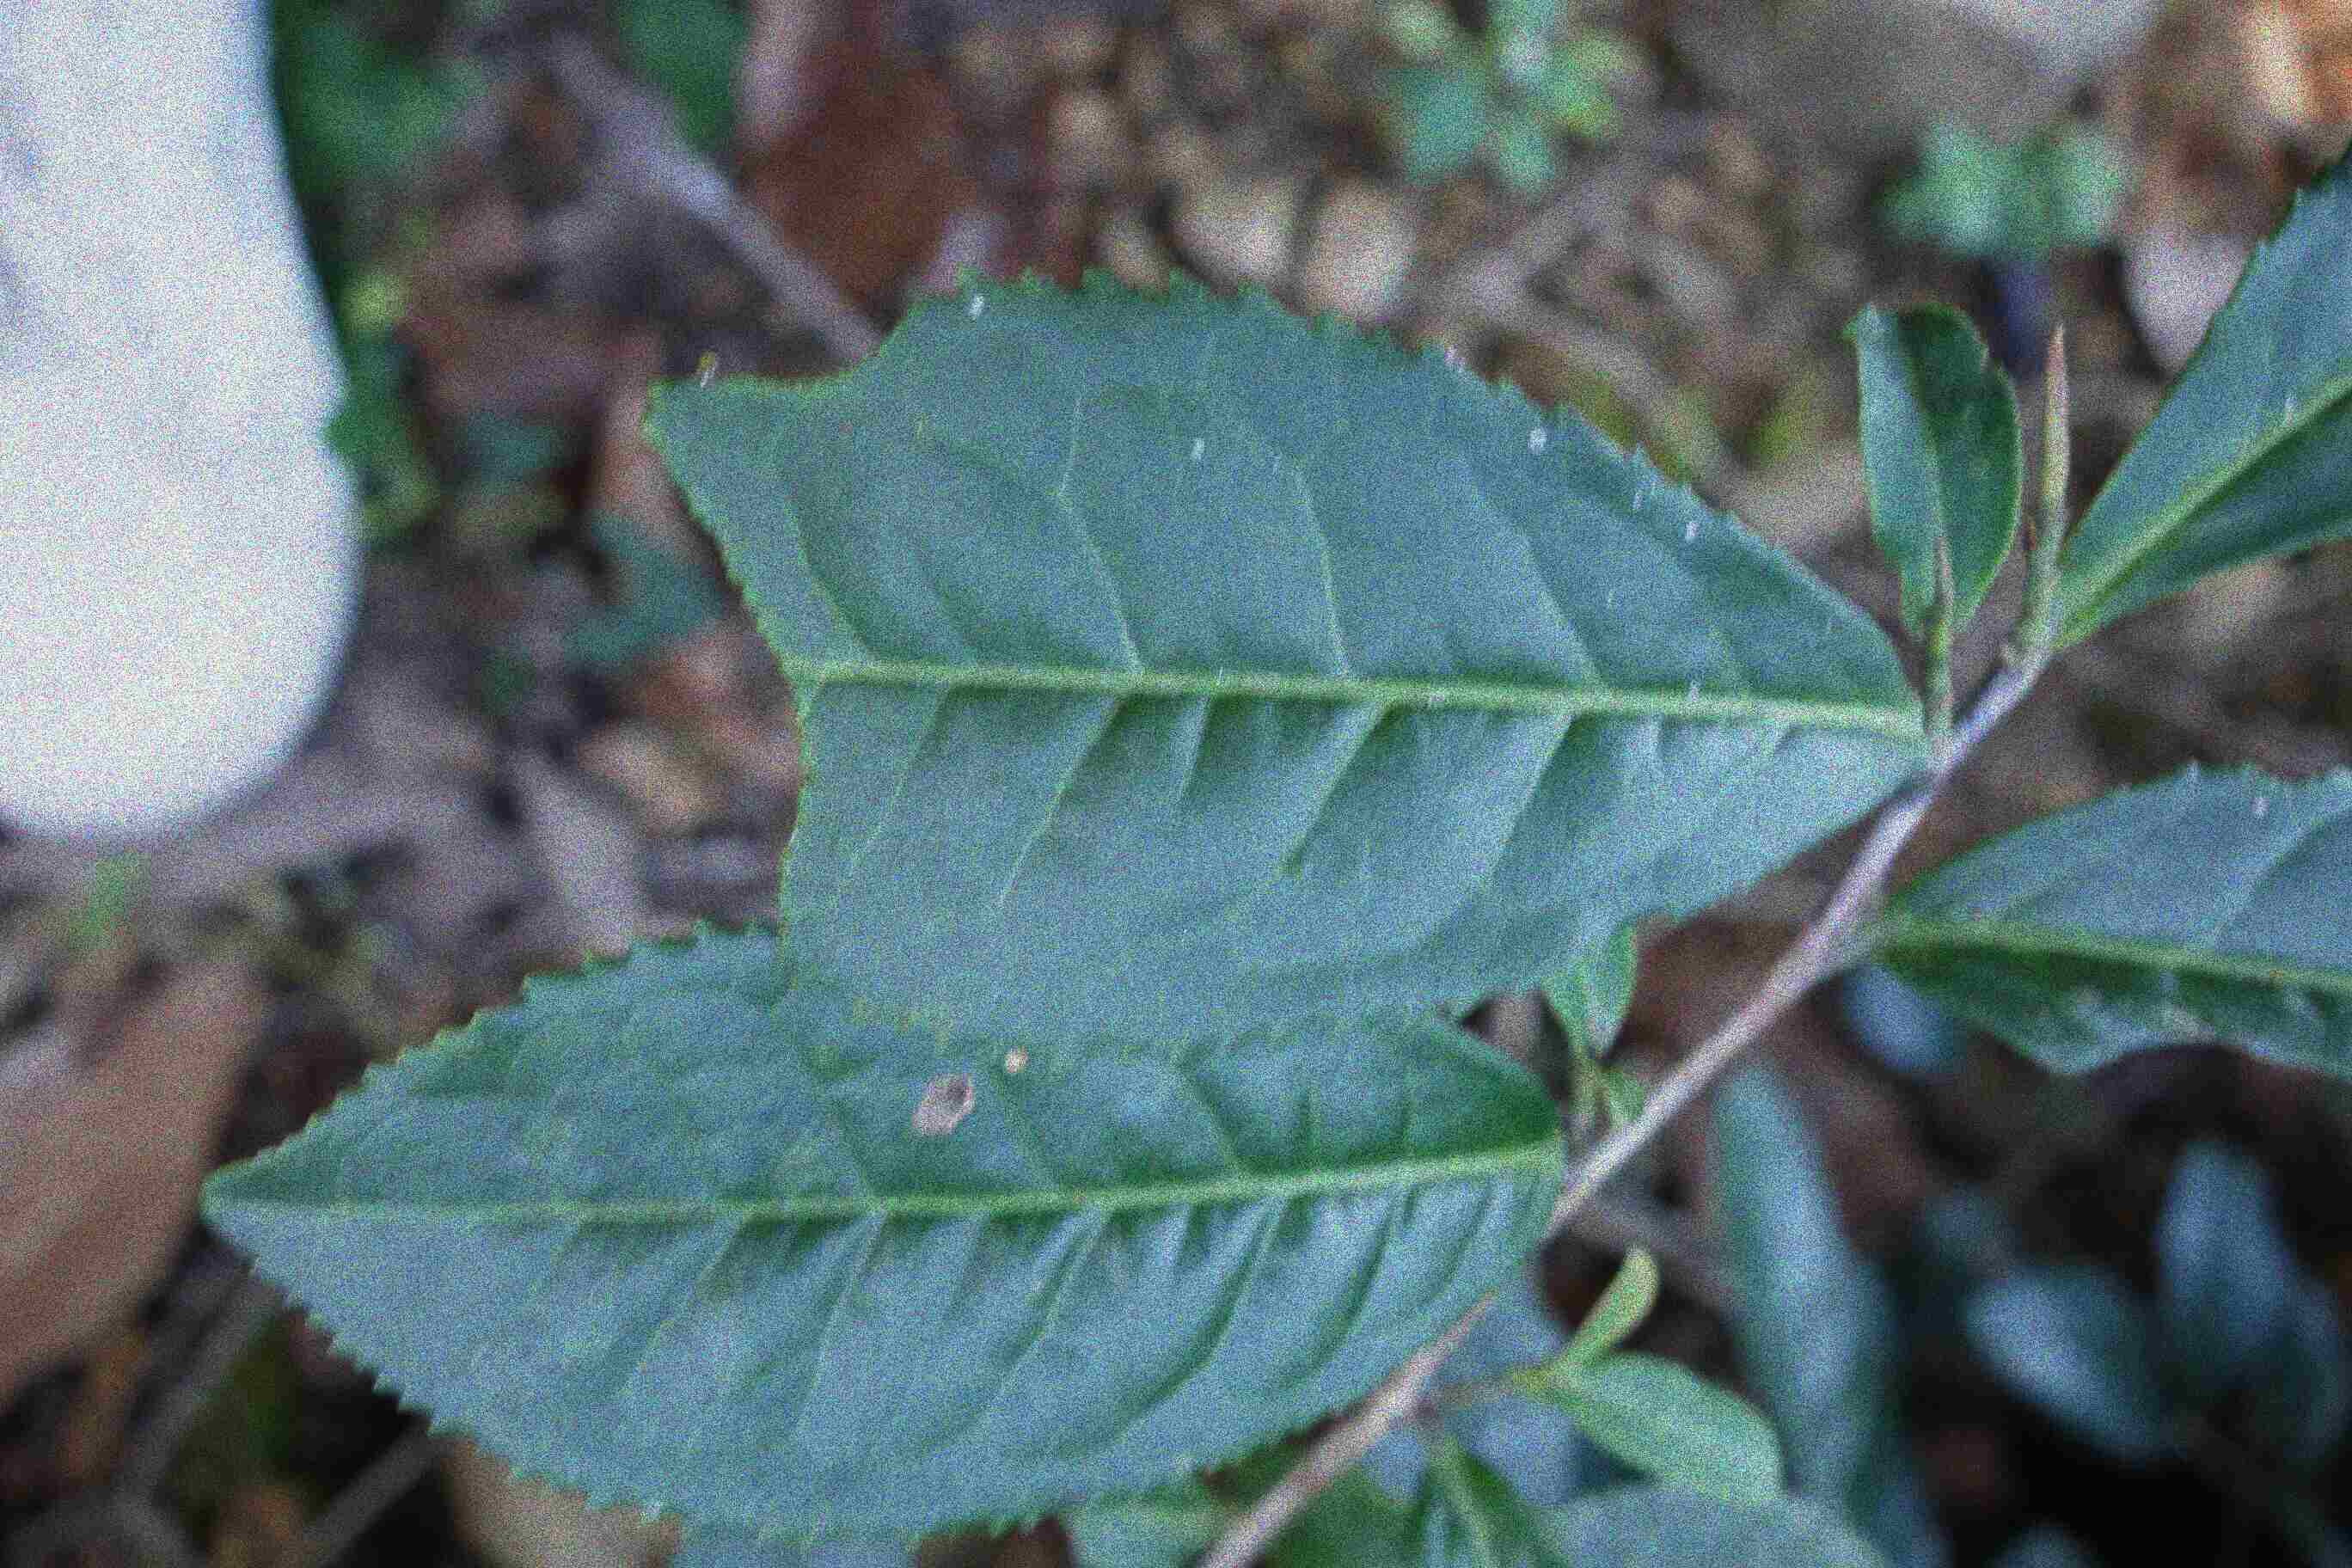chihuo_high: (632, 259, 1927, 1078)
chihuo_low: (205, 934, 1578, 1556)
